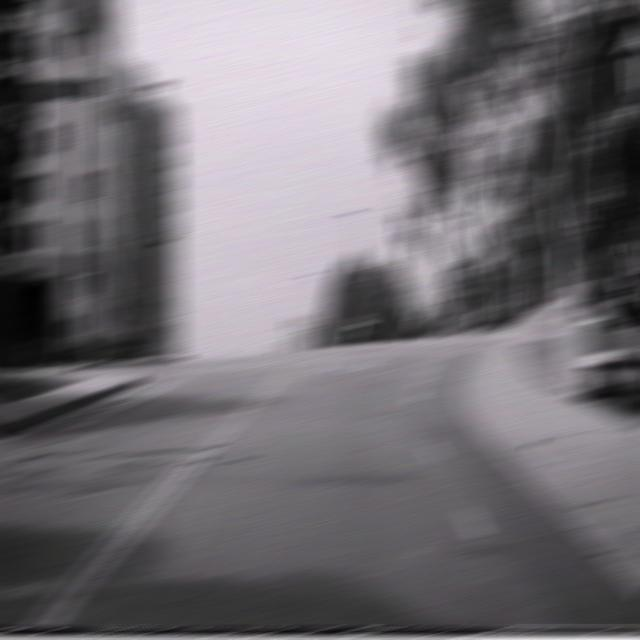stop: (511, 212, 541, 250)
